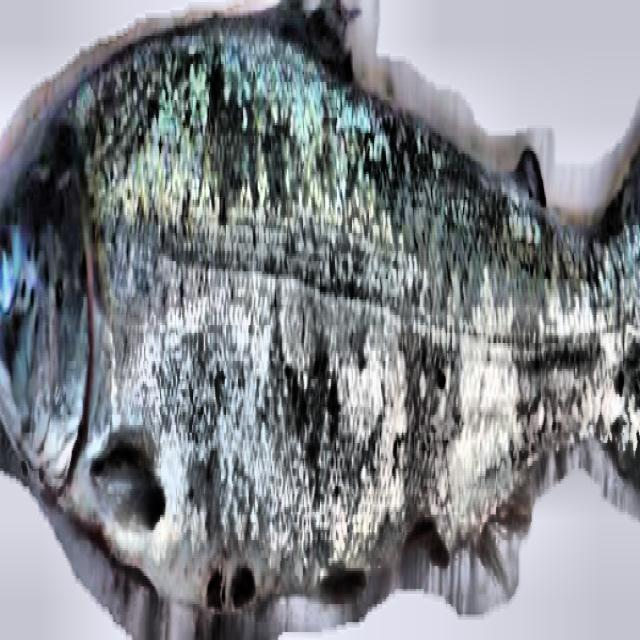mild_red: (36, 10, 639, 612)
